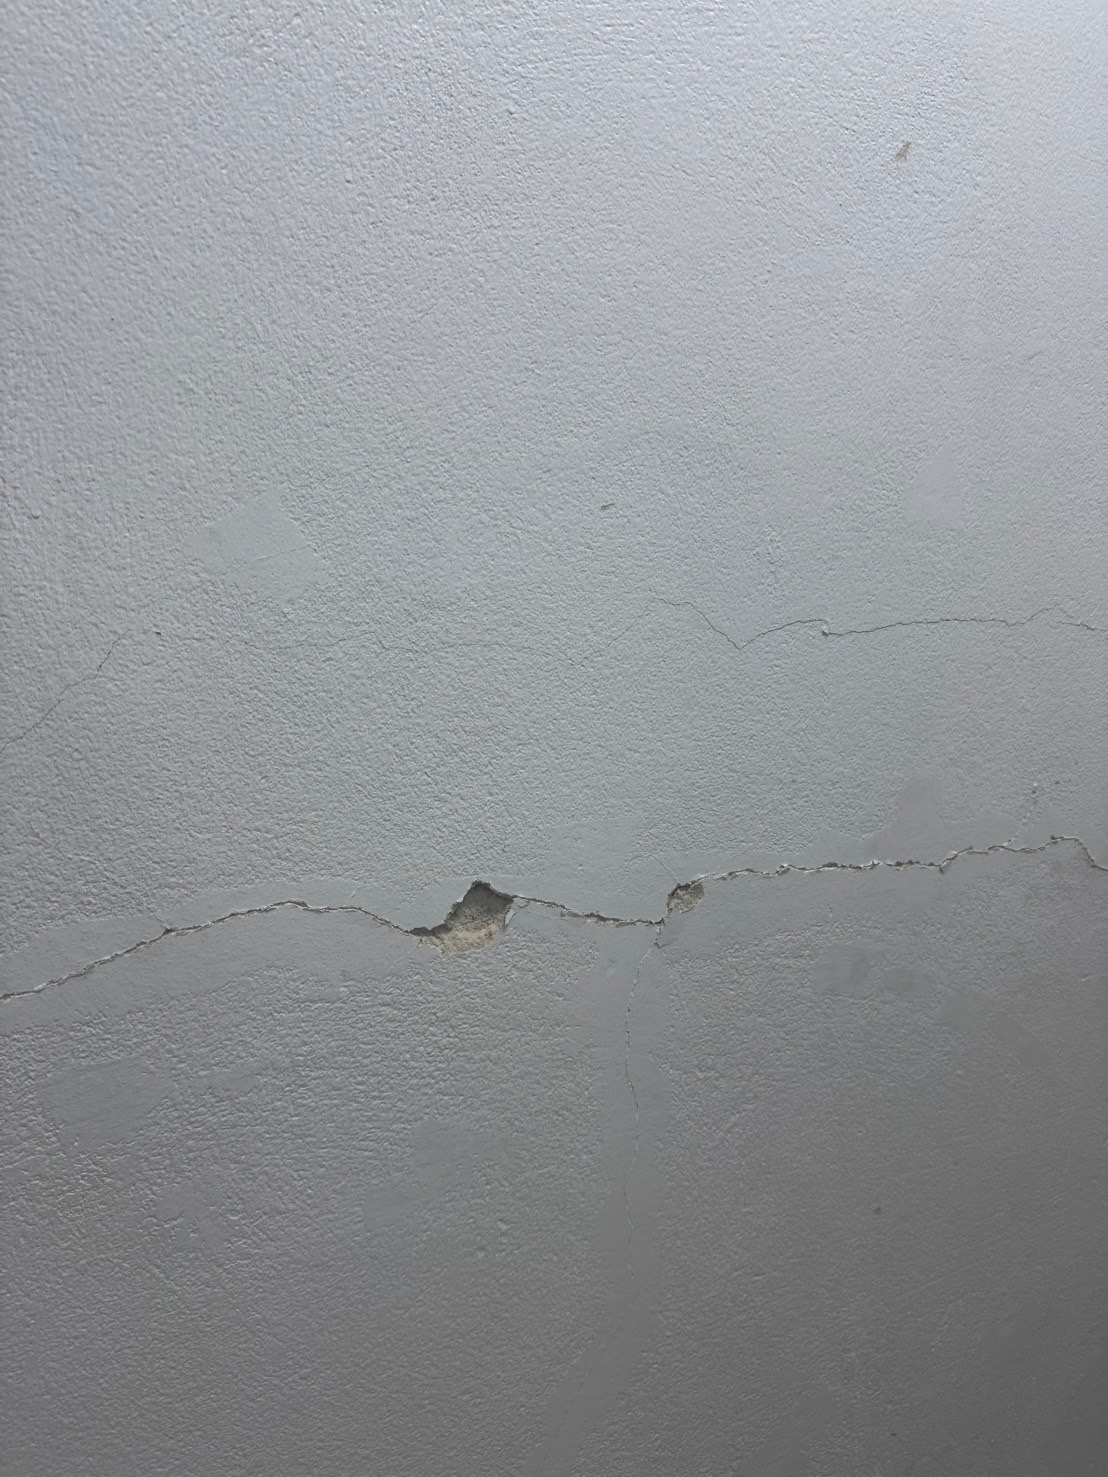Low: (1, 562, 1108, 1010)
